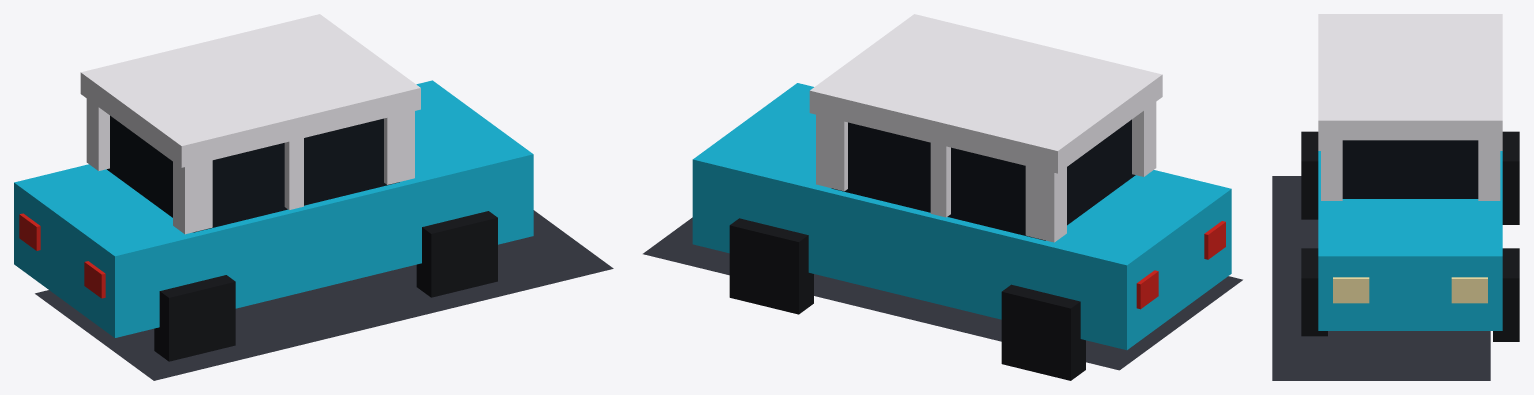
File: car_cyan.obj
3 views of the same model, side by side, from view 1: azimuth 30°, elevation 25°; view 2: azimuth 150°, elevation 25°; view 3: azimuth 270°, elevation 25° (orthographic). The views are drawn at different scales.
Size of the model in its own units: 2.08 by 0.87 by 1.02.
